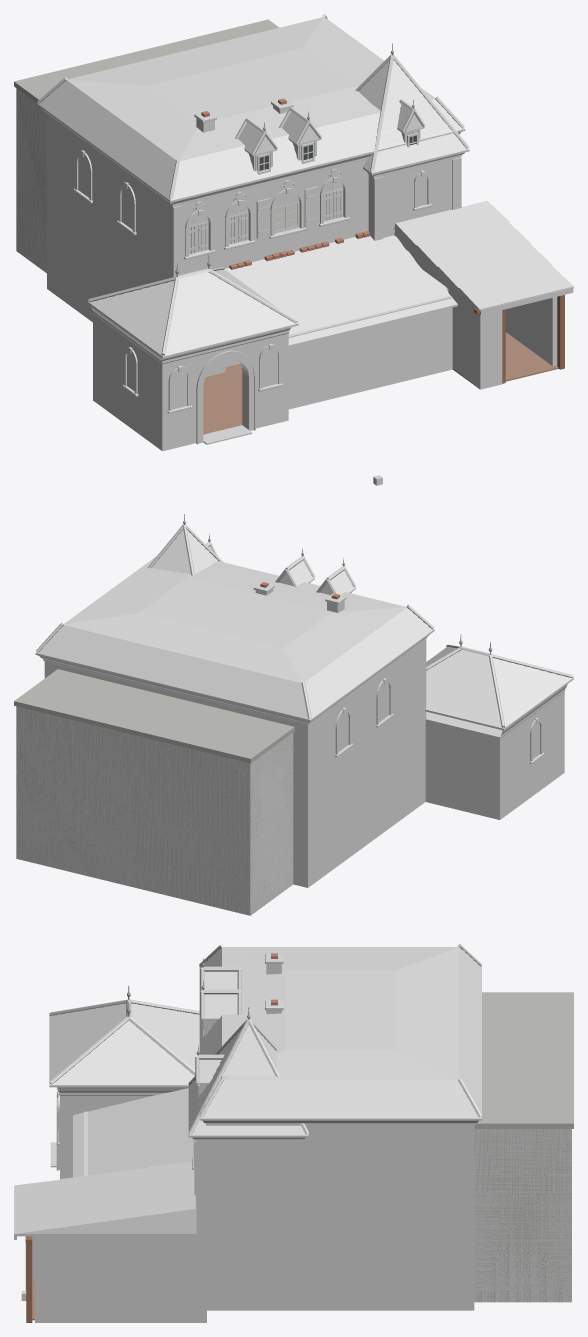
File: AR_Assepoester_v2.fbx
3 views of the same model, one above another, from view 1: azimuth 30°, elevation 25°; view 2: azimuth 150°, elevation 25°; view 3: azimuth 270°, elevation 25° (orthographic). The views are drawn at different scales.
Parts seen in each view (by area): view 1: static__TEX_pannen_hoofd_0, static__TEX_pannen_laag_0, COLL_6, static__TEX_stuc_noord_0, static__TEX_stuc_voor_0, COLL_5, static__TEX_groen_0, static__TEX_omlijsting_0, static__MAT_achter_0, COLL_0, COLL_8, static__MAT_vloer_0 (+8 smaller); view 2: COLL_8, static__TEX_pannen_hoofd_0, static__MAT_achter_0, COLL_6, static__TEX_pannen_laag_0, static__TEX_stuc_noord_0, COLL_3, COLL_0, static__TEX_groen_0, static__TEX_stuc_achter_0, static__TEX_omlijsting_0; view 3: static__TEX_pannen_hoofd_0, COLL_6, static__TEX_pannen_laag_0, static__TEX_stuc_zuid_0, static__MAT_achter_0, COLL_8, COLL_9, static__TEX_groen_0, static__TEX_stuc_binnen_0, COLL_7, static__TEX_omlijsting_0, static__MAT_hout_0 (+1 smaller).
Boxes of the visible parts, x1,y1,x2,y2 form: static__TEX_pannen_hoofd_0: (37, 14, 469, 202); static__TEX_pannen_laag_0: (87, 201, 573, 358); COLL_6: (47, 115, 342, 366); static__TEX_stuc_noord_0: (47, 121, 373, 450); static__TEX_stuc_voor_0: (162, 106, 448, 449); COLL_5: (288, 296, 452, 409); static__TEX_groen_0: (43, 99, 573, 363); static__TEX_omlijsting_0: (73, 98, 461, 444); static__MAT_achter_0: (14, 19, 278, 273); COLL_0: (93, 313, 171, 450); COLL_8: (16, 88, 46, 272); static__MAT_vloer_0: (203, 332, 558, 434); COLL_8: (16, 706, 293, 915); static__TEX_pannen_hoofd_0: (35, 524, 434, 721); static__MAT_achter_0: (14, 669, 294, 915); COLL_6: (44, 661, 424, 887); static__TEX_pannen_laag_0: (425, 644, 573, 730); static__TEX_stuc_noord_0: (308, 640, 564, 885); COLL_3: (425, 714, 495, 817); COLL_0: (491, 692, 564, 819); static__TEX_groen_0: (39, 541, 567, 738); static__TEX_stuc_achter_0: (44, 662, 499, 887); static__TEX_omlijsting_0: (253, 582, 544, 778); static__TEX_pannen_hoofd_0: (188, 944, 482, 1137); COLL_6: (210, 1125, 474, 1310); static__TEX_pannen_laag_0: (14, 999, 199, 1236); static__TEX_stuc_zuid_0: (39, 1125, 474, 1322); static__MAT_achter_0: (474, 992, 573, 1302); COLL_8: (474, 1129, 571, 1302); COLL_9: (35, 1236, 195, 1322); static__TEX_groen_0: (14, 966, 478, 1278); static__TEX_stuc_binnen_0: (60, 1096, 151, 1178); COLL_7: (195, 1141, 206, 1229); static__TEX_omlijsting_0: (56, 954, 283, 1222); static__MAT_hout_0: (25, 1236, 32, 1322).
Size of the model in its own units: 12.57 by 10.15 by 14.56.
